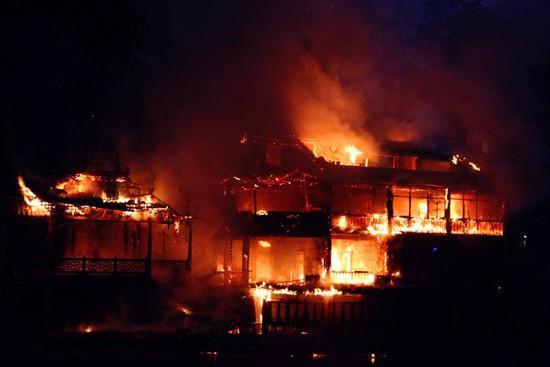fire: (216, 231, 400, 296), (4, 165, 184, 221), (328, 183, 506, 231), (298, 112, 377, 165)
